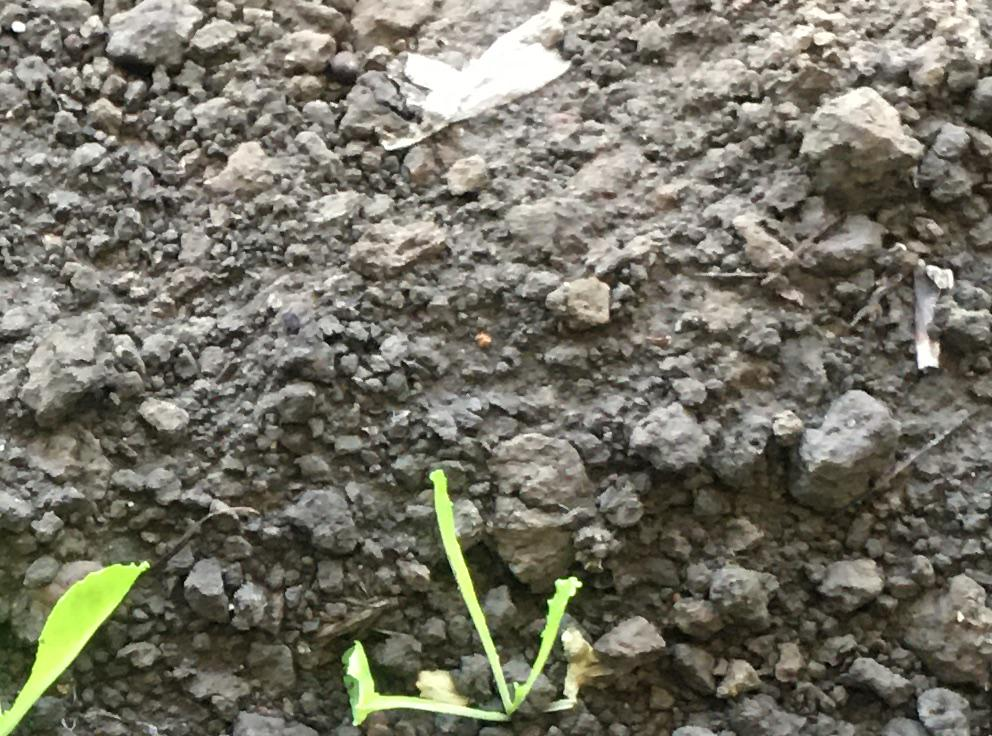block: (488, 433, 593, 594), (795, 87, 924, 194), (789, 389, 899, 513)
